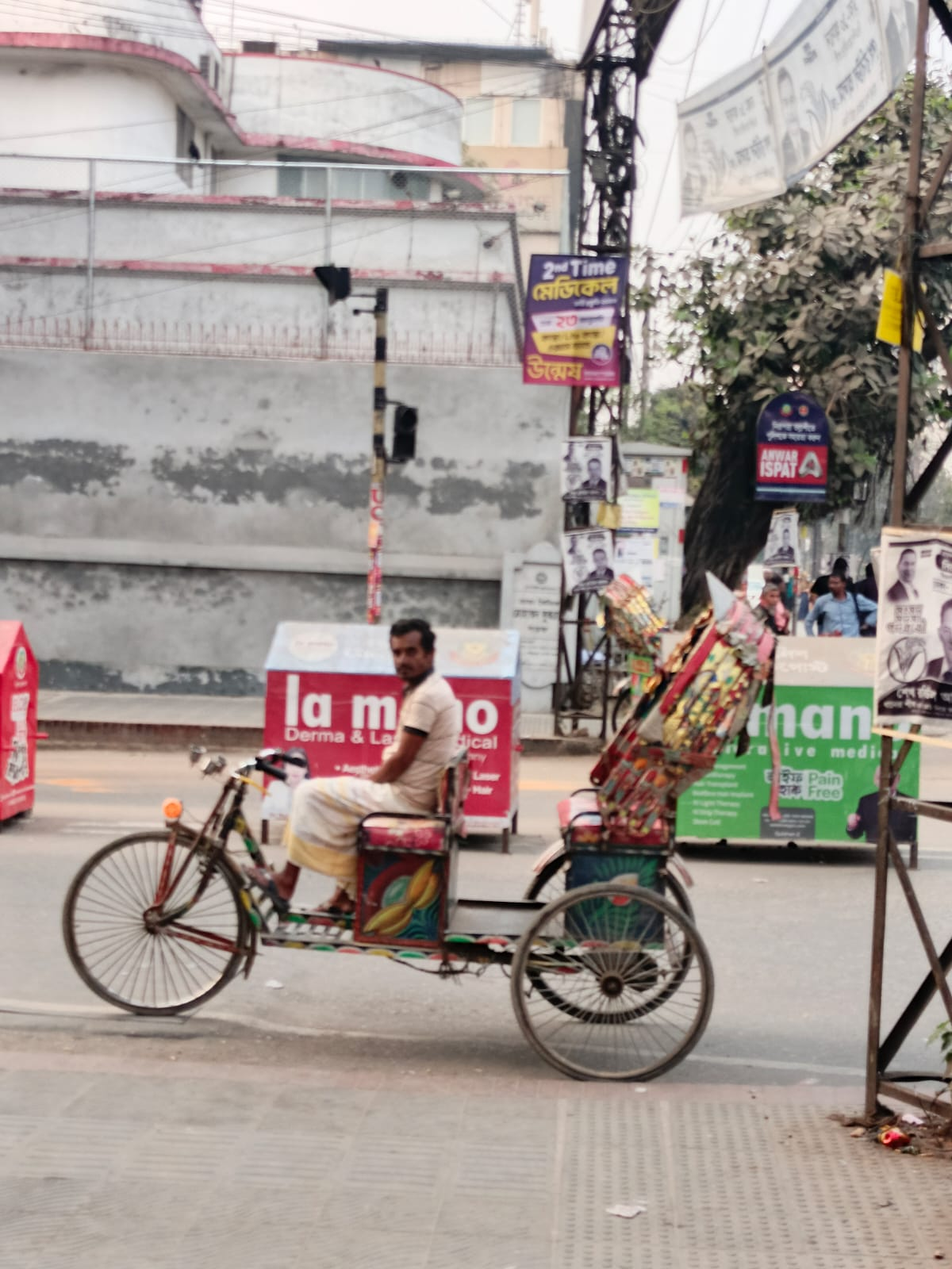auto-ricksaw: (56, 564, 799, 1094)
